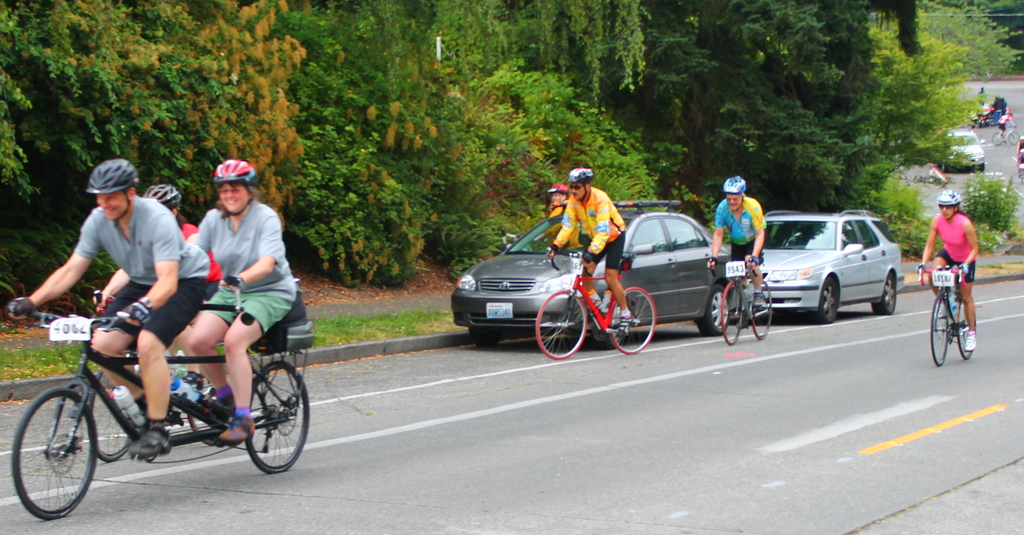Bike_toward: (14, 294, 309, 508), (541, 253, 647, 371)
